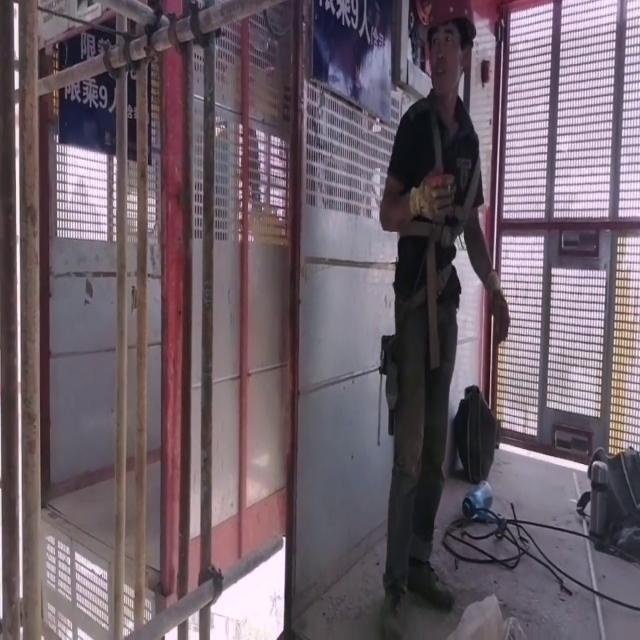Arnes_seguridad: (399, 83, 485, 291)
